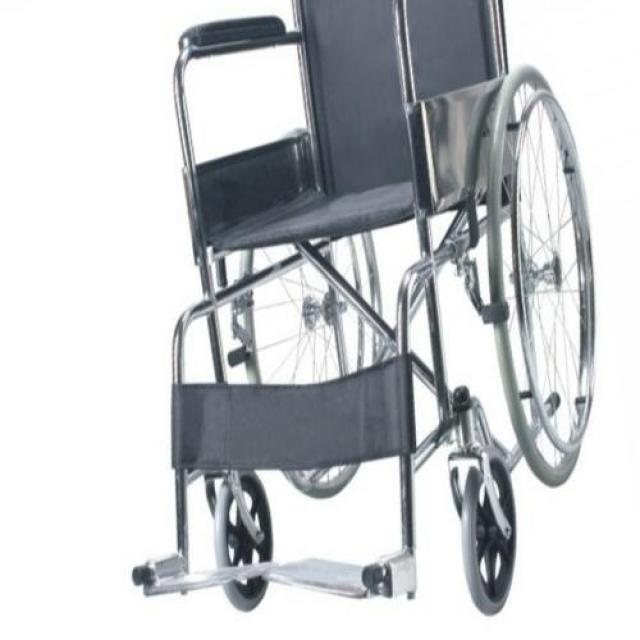wheelchair: (107, 0, 640, 626)
